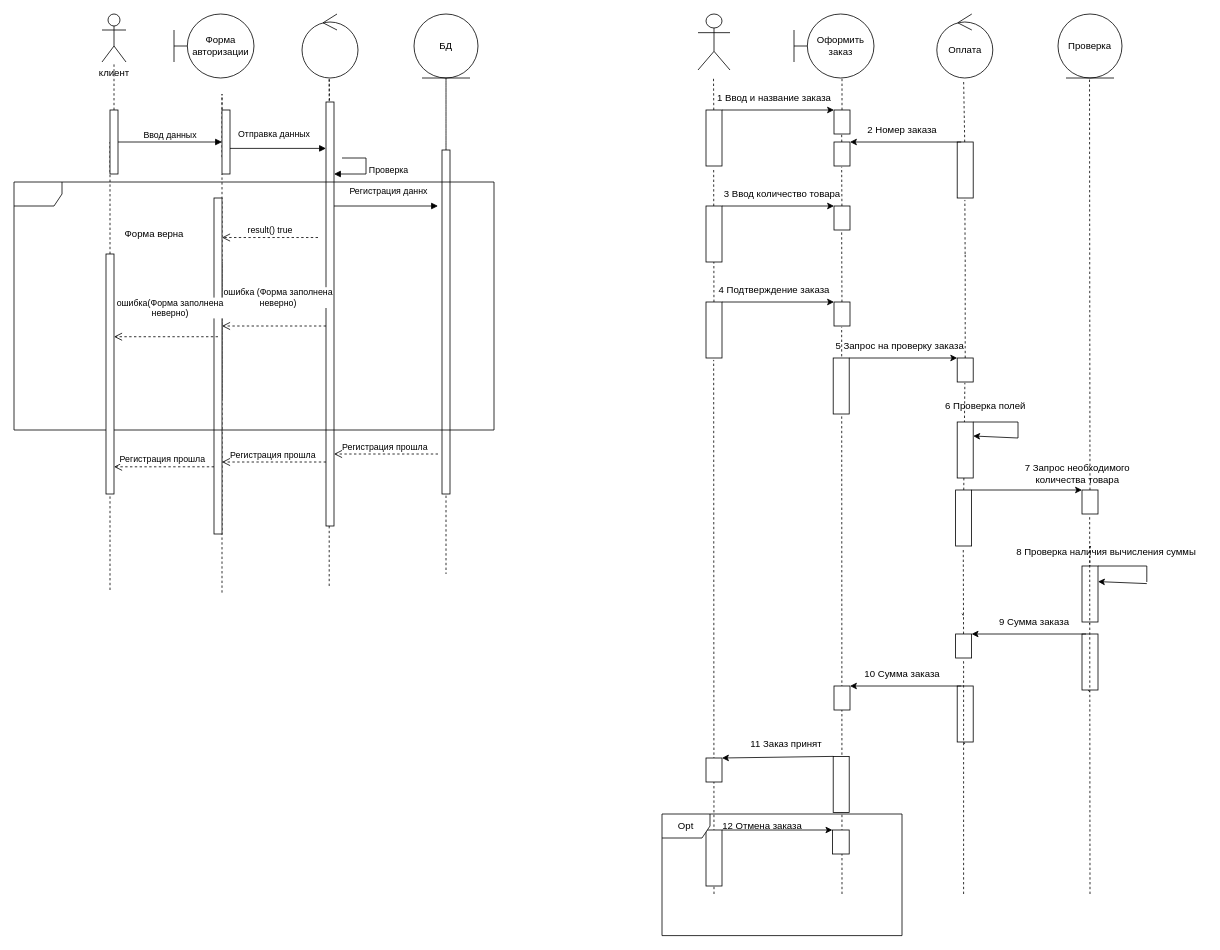
The diagram is 1220 pixels wide and 950 high, and some of its shapes have lost their labels. Here are the shapes that lost their labels. From the top down, the box of each, then its label:
(301, 13, 358, 78): Менеджер доступа
(697, 13, 730, 70): Клент
(13, 181, 494, 430): Alt
